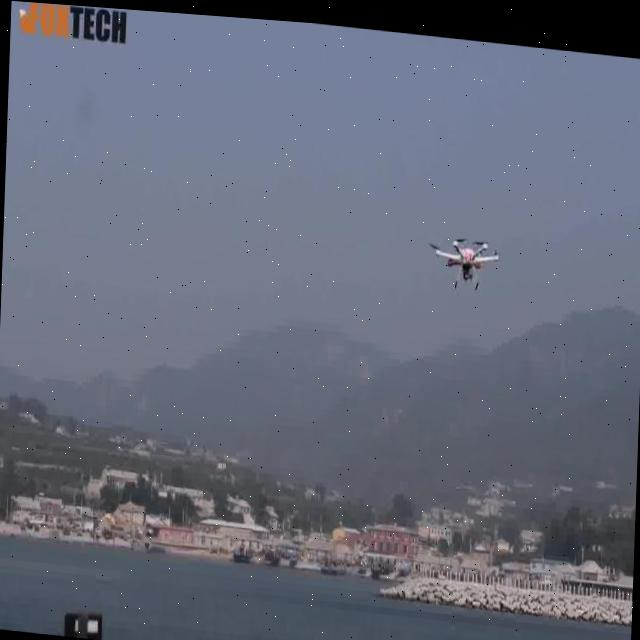drone: (424, 219, 508, 287)
